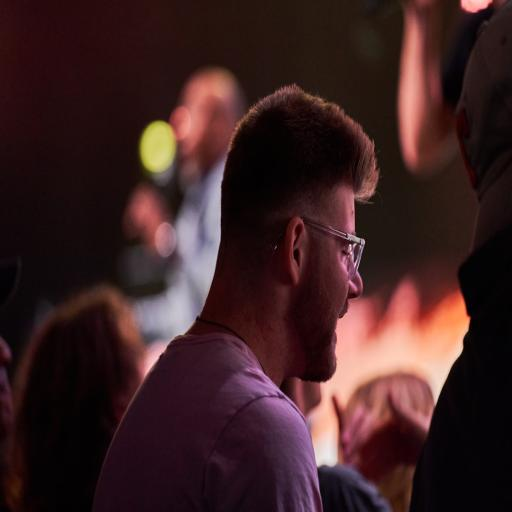face: (295, 224, 362, 381), (170, 79, 217, 167)
